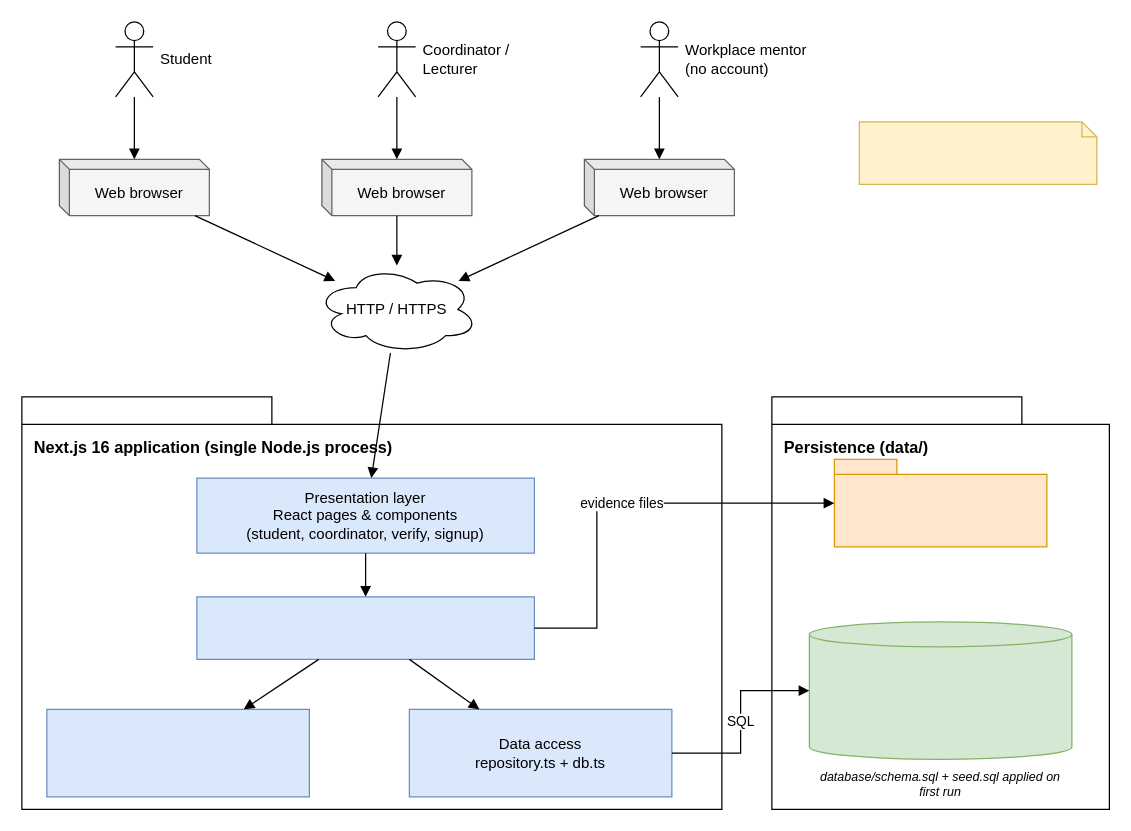
Some shapes in this 1131 by 831 pixel diagram are drawn without their labels. Here are the shapes that lost their labels. From the top down, the centre of each, then its label:
At point (977, 152): "Mentor only uses the one-time link /verify/{token}; no login.".
At point (940, 502): "uploads/ evidence files (PDF / image)".
At point (365, 627): "Application layer – Server Actions auth | logbook | verify".
At point (940, 690): "SQLite database trackwil.db users · logbook_entries · verification_tokens".
At point (177, 752): "Access control proxy.ts + session cookie + role checks in layouts".
